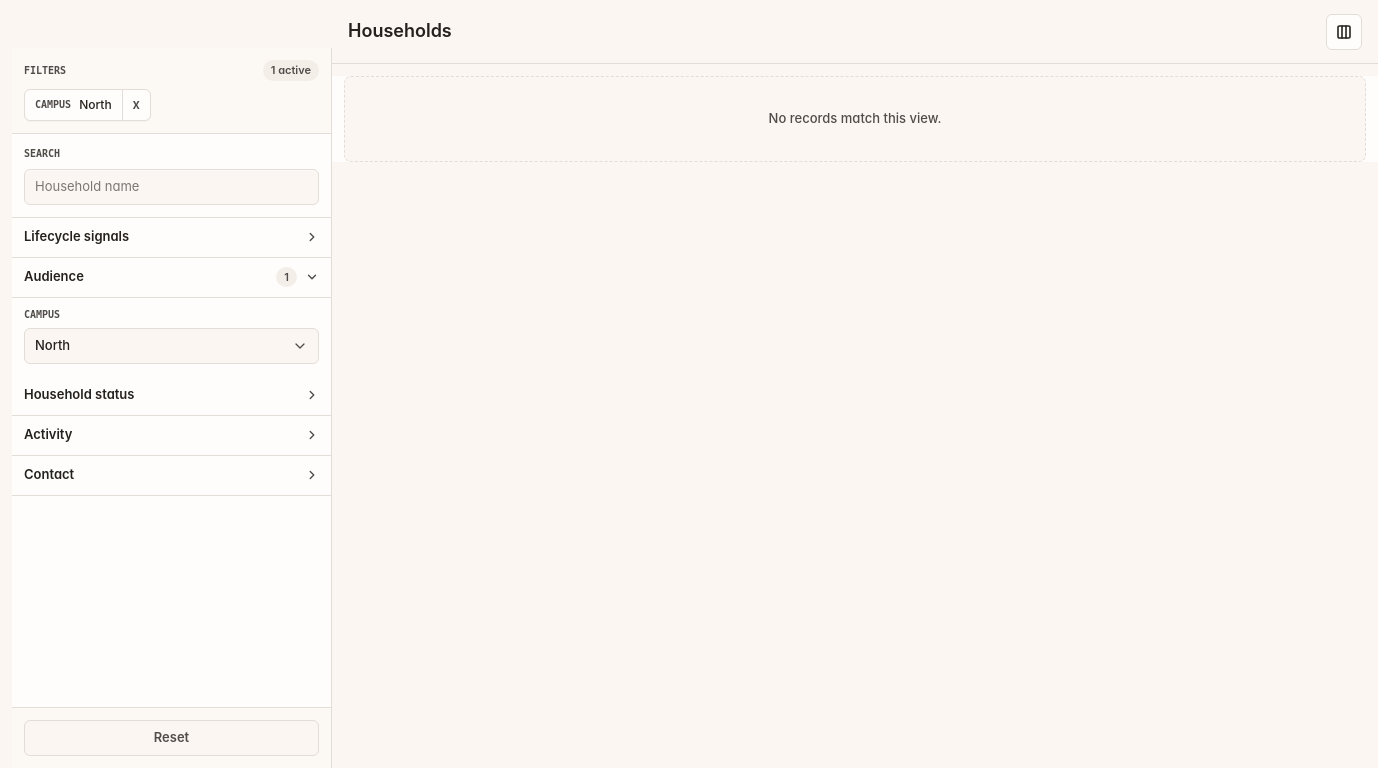
Test: ListViewShell › renders the campus filter as a named dropdown
This screenshot has width=1378, height=768.
Step 1. Click the button with aria-label "campus" → (53, 345), box [24, 328, 319, 364]
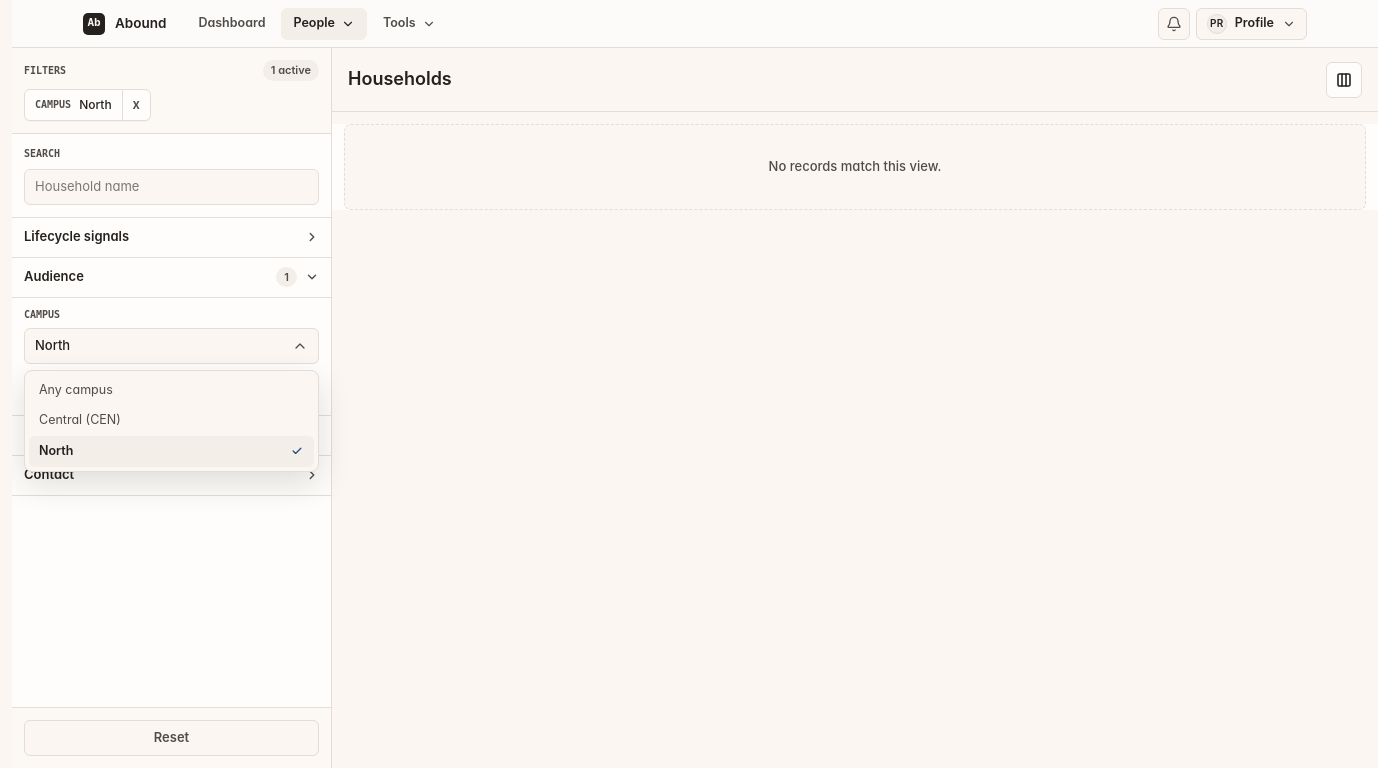
Expected: the option "Any campus" is shown, [29, 374, 314, 405]
Expected: the option "North" is shown, [29, 436, 314, 467]
Expected: the text "North" is shown 3 times, [79, 98, 112, 110]; [35, 336, 70, 355]; [39, 442, 73, 461]
